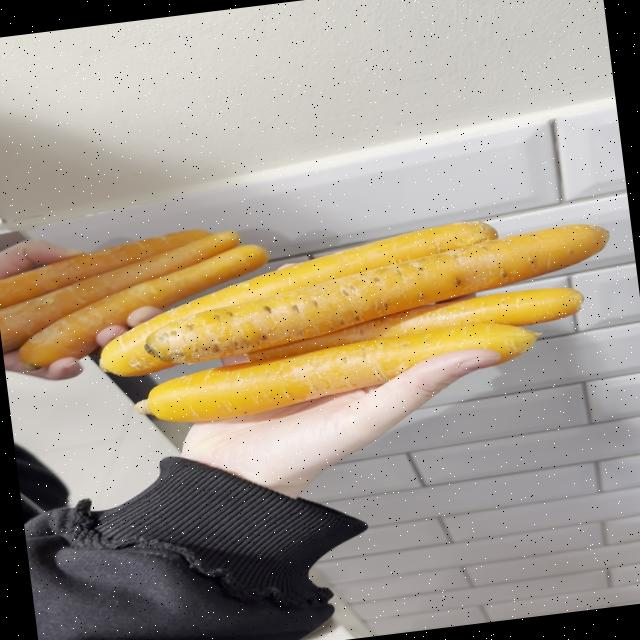carrot: (143, 224, 607, 363), (100, 221, 494, 376), (145, 323, 537, 422), (19, 244, 268, 367), (0, 231, 239, 352), (246, 287, 582, 360), (0, 229, 207, 308)
